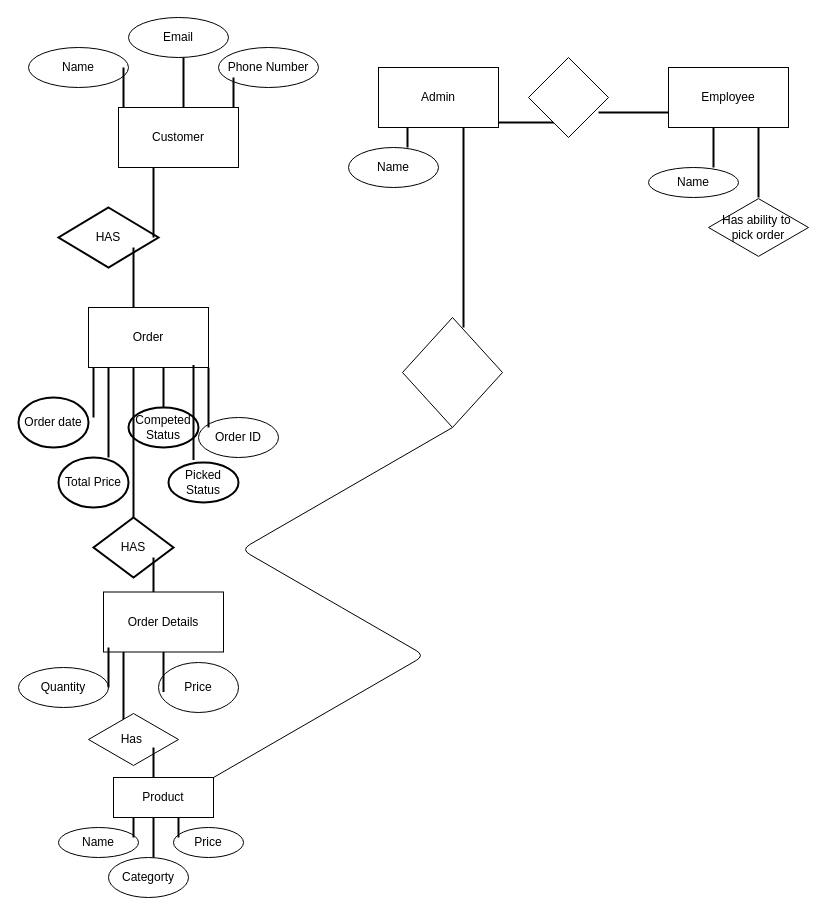
Some shapes in this 826 by 915 pixel diagram are drawn without their labels. The shapes that lost their labels are listed below. From the top down, each one's box as (x1, y1, x2, y2) in pixels, then its label:
(528, 56, 608, 138): has ability to create
(402, 316, 502, 428): Has ability to Create/ Change Products
